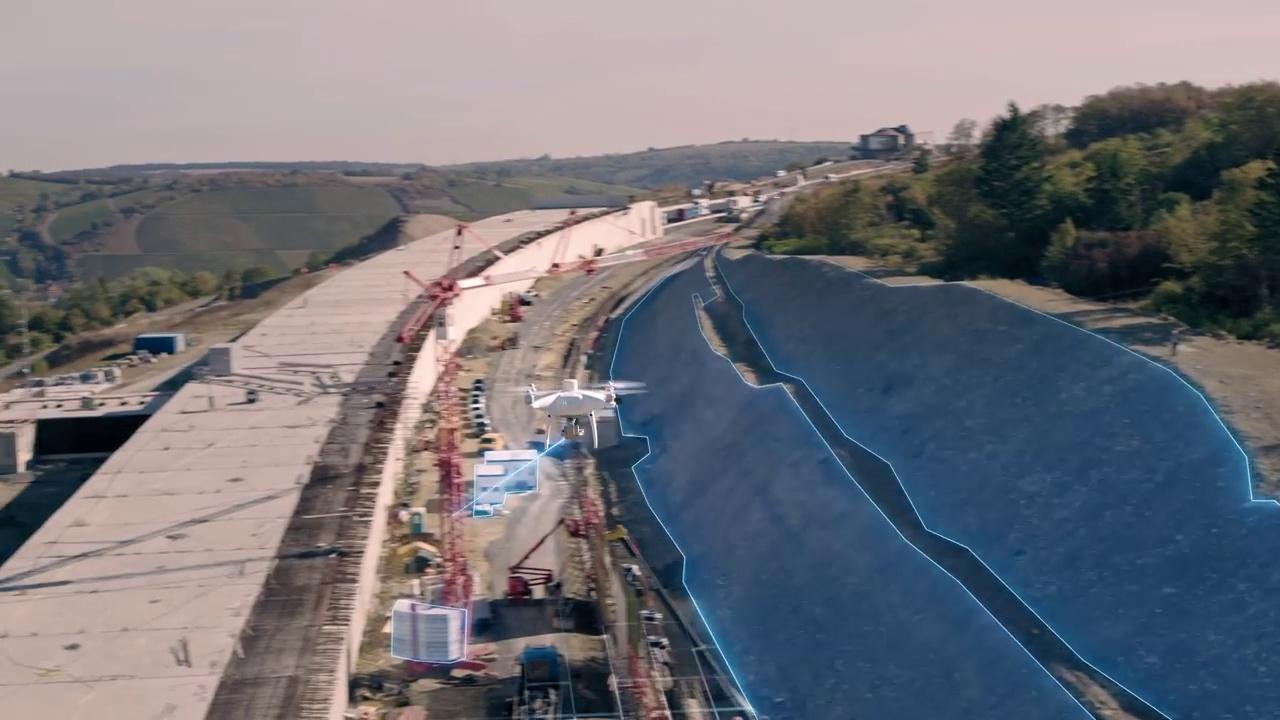drone: (506, 379, 647, 450)
